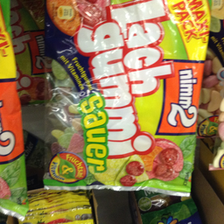candy: (43, 1, 211, 196)
